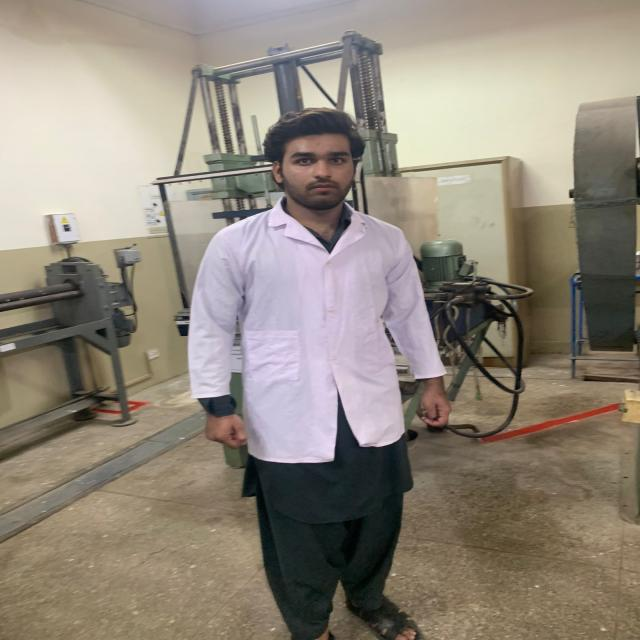labcoat: (185, 194, 449, 466)
